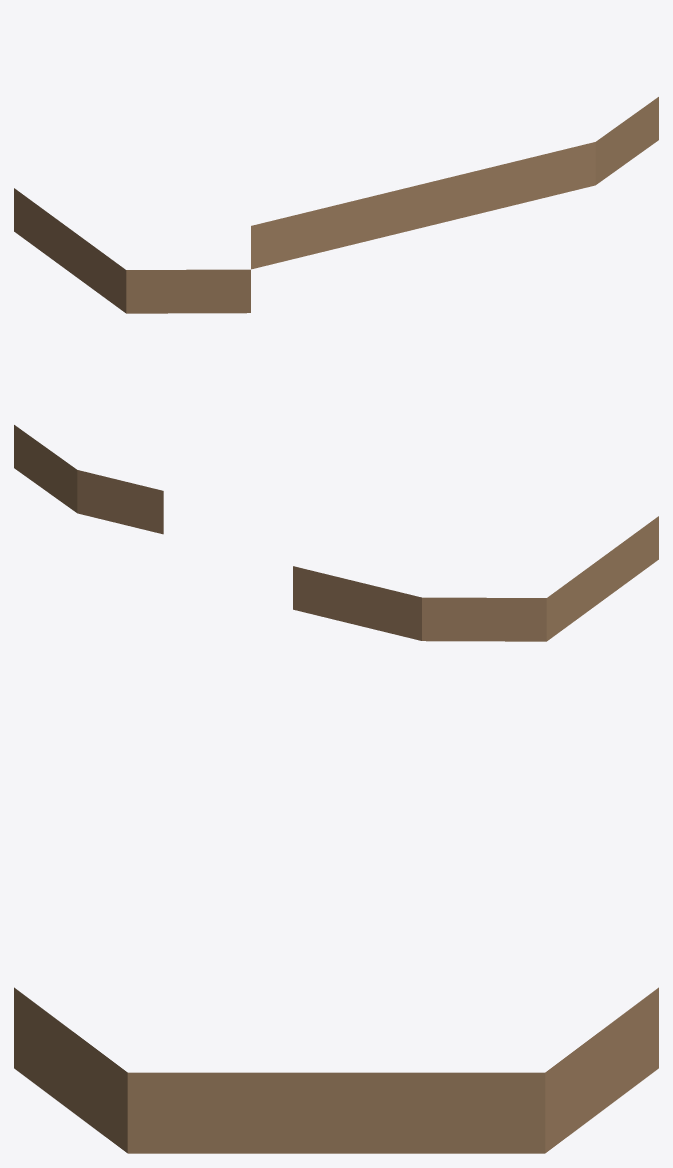
Rendered from 1441-Buildings-shell-pieces-facade-bay-wall-round-an-opening-reveals-sill-head-emitBa.glb.
3 renders of one model, top to bottom at view 1: azimuth 30°, elevation 25°; view 2: azimuth 150°, elevation 25°; view 3: azimuth 270°, elevation 25°, orthographic. The views are drawn at different scales.
Visible parts, largest first — view 1: emitBay; view 2: emitBay; view 3: emitBay.
Boxes of the visible parts, left/top/right/bottom form: emitBay: left=14, top=97, right=658, bottom=313; emitBay: left=14, top=425, right=658, bottom=641; emitBay: left=14, top=987, right=658, bottom=1153.
Size of the model in its own units: 39 by 6.1 by 22.
